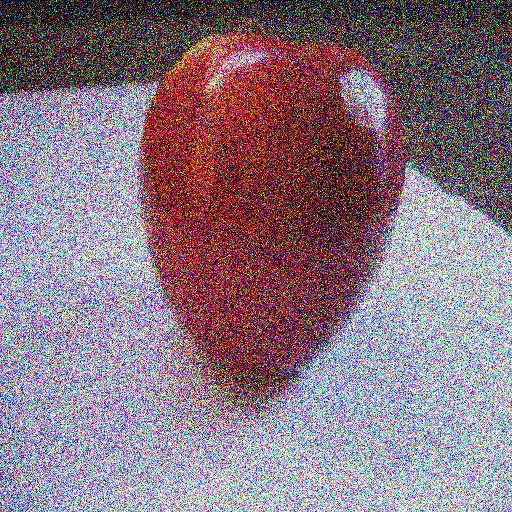fruit: (341, 94, 456, 315)
